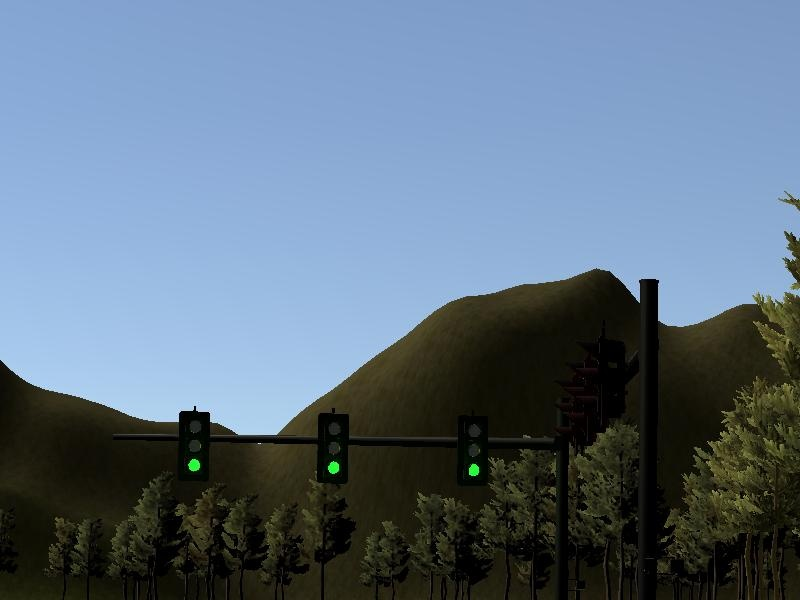GREEN: (457, 415, 489, 486), (315, 413, 347, 484), (177, 411, 209, 482)
